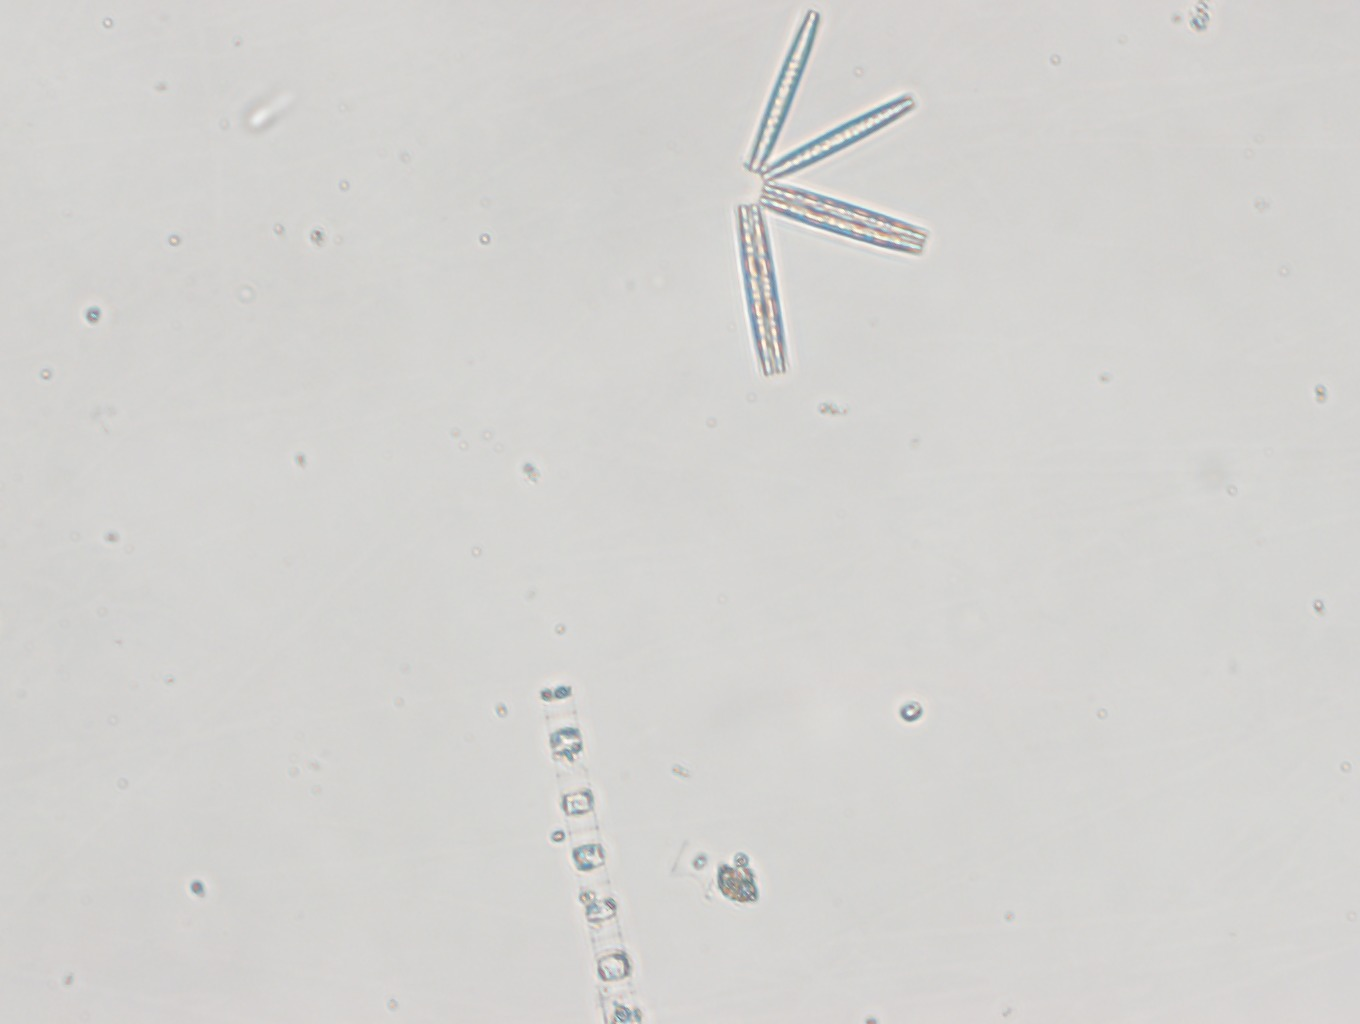skeletonema: (536, 675, 646, 1024)
thalassionema nitzschioides: (733, 11, 929, 381)
